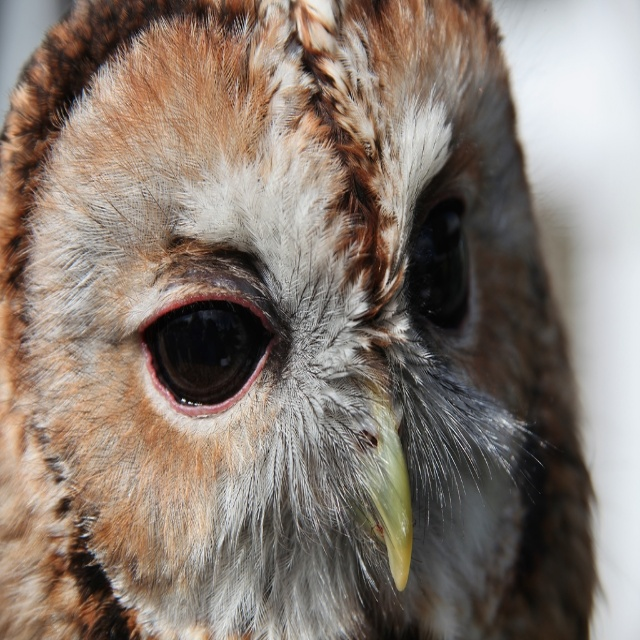Owl: (0, 0, 612, 639)
